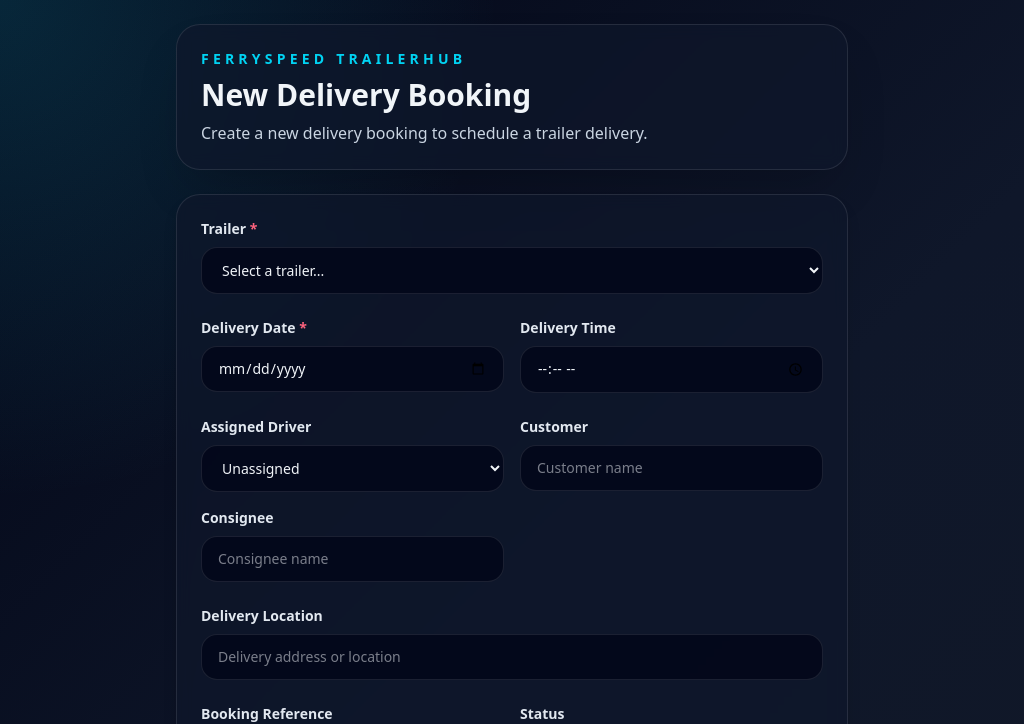
Scenario: NewDeliveryPage › surfaces the conflict and does not create a second booking when the trailer is already reserved
This screenshot has width=1024, height=724.
Select "FS1001" in the 1st dropdown: (512, 270) 201,247 -> 823,294
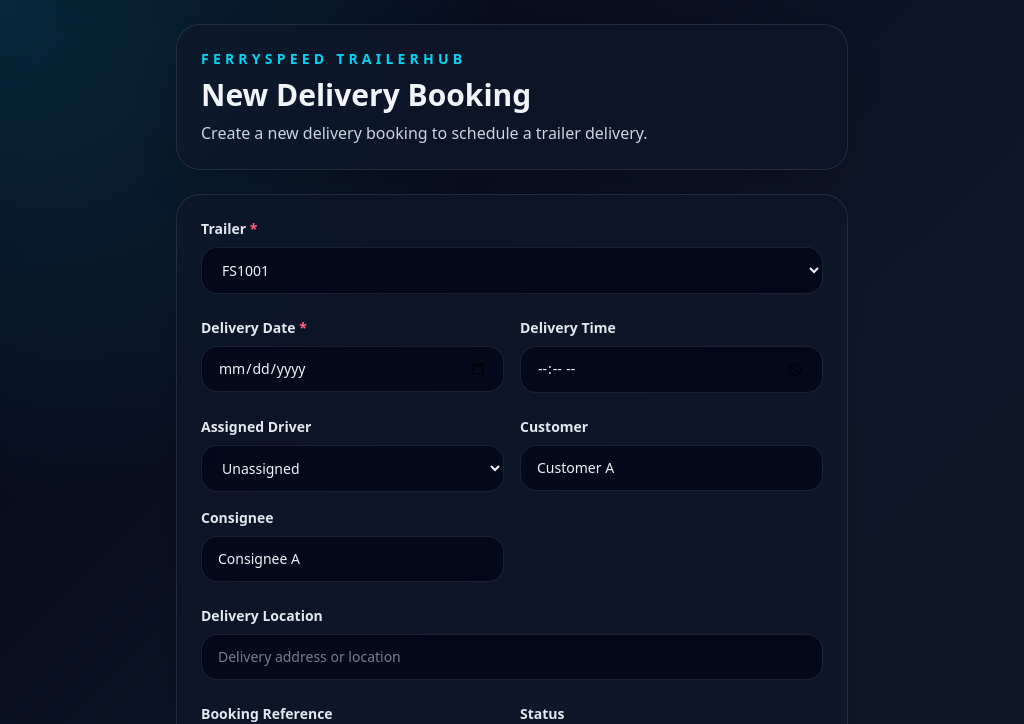
In the date field: (352, 369) 201,346 -> 504,392, type "2026-08-13"
(page scrolled)
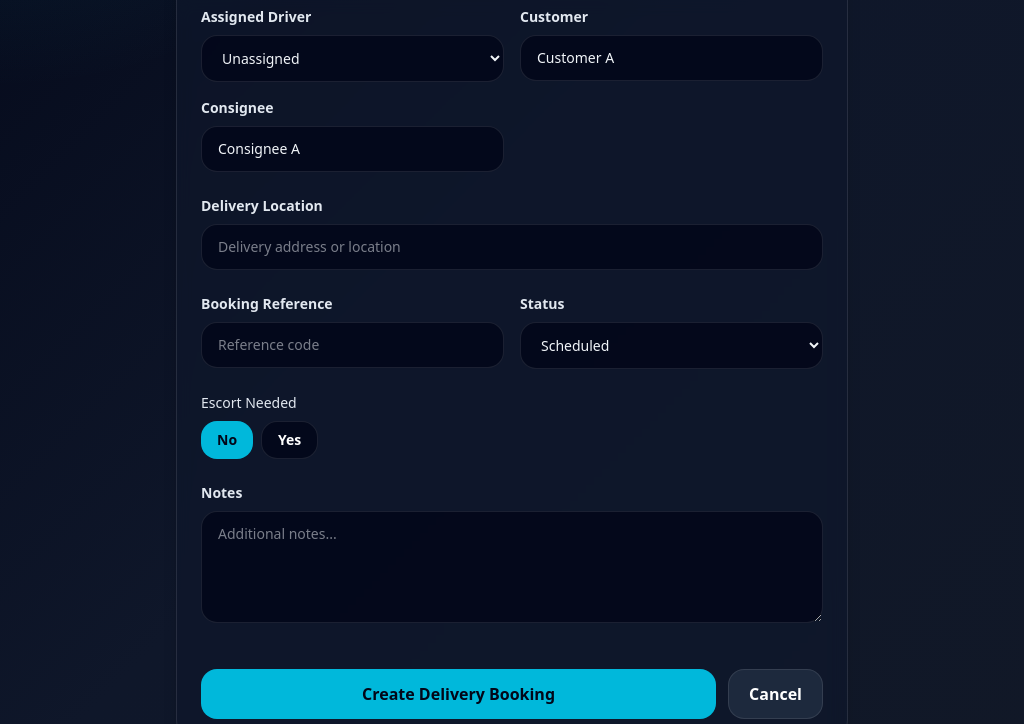
Click the button "Create Delivery Booking": (459, 694) 201,669 -> 716,719
(page scrolled)
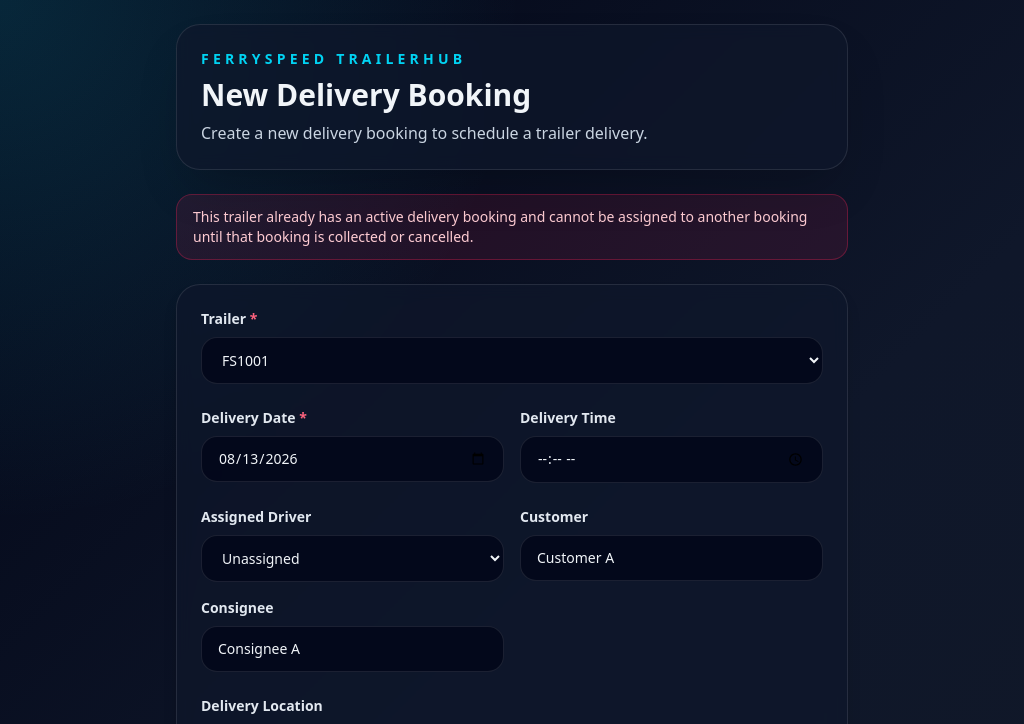
Result: the text "This trailer already has an active delivery booking and cannot be assigned to another booking until that booking is coll" is shown at 193,207 -> 808,246
